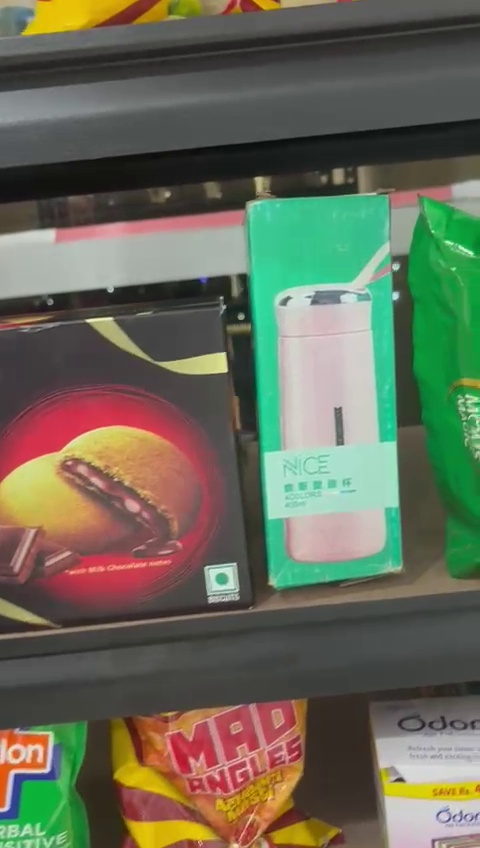Bottle: (241, 200, 414, 591)
